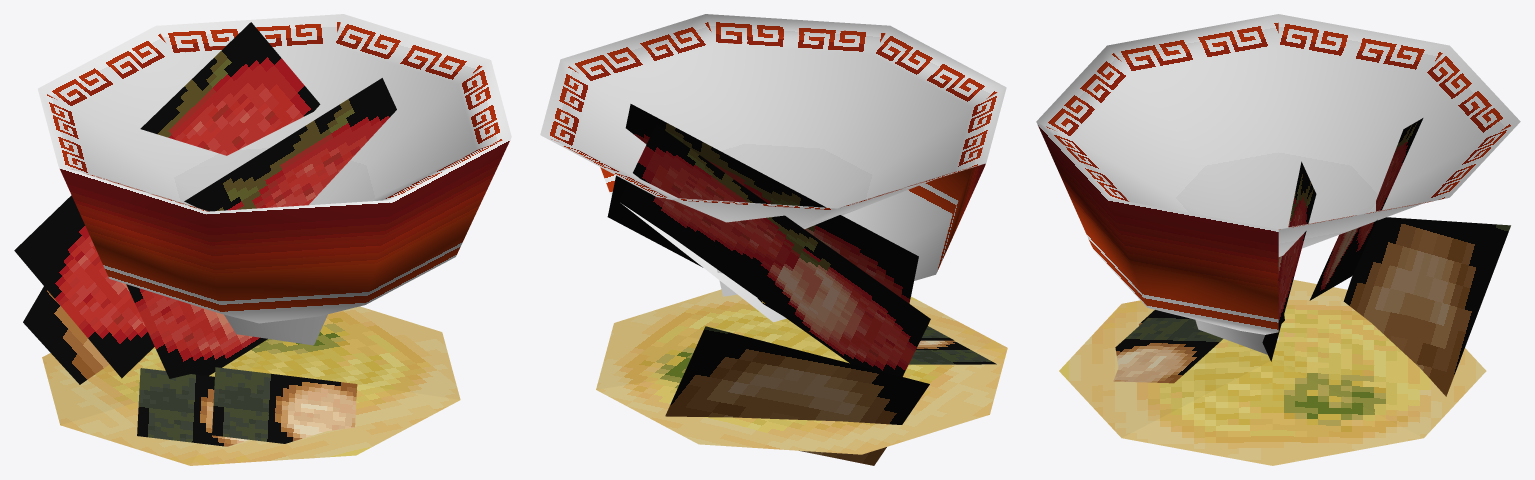
3 views of the same model, side by side, from view 1: azimuth 30°, elevation 25°; view 2: azimuth 150°, elevation 25°; view 3: azimuth 270°, elevation 25° (orthographic). The views are drawn at different scales.
Parts seen in each view (by area): view 1: 5534u_ramn03_hl; view 2: 5534u_ramn03_hl; view 3: 5534u_ramn03_hl.
Boxes of the visible parts, box(x1,y1,x2,y2) form: 5534u_ramn03_hl: box(14, 14, 511, 465); 5534u_ramn03_hl: box(540, 14, 1007, 465); 5534u_ramn03_hl: box(1036, 14, 1520, 465).
Size of the model in its own units: 0.7812 by 0.5945 by 0.7417.
Materials: 5 (5 with a texture image).
